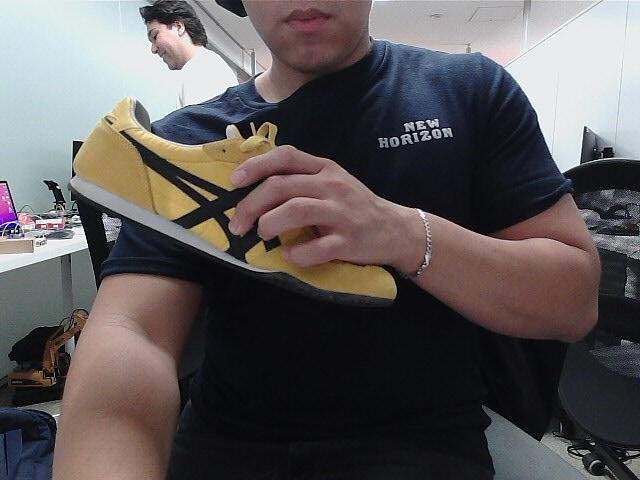Shoes: (68, 100, 398, 313)
